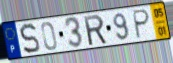0: (40, 21, 59, 52)
3: (65, 16, 84, 51)
9: (111, 12, 130, 42)
P: (132, 8, 152, 41)
R: (82, 13, 109, 47)
S: (18, 22, 42, 55)
